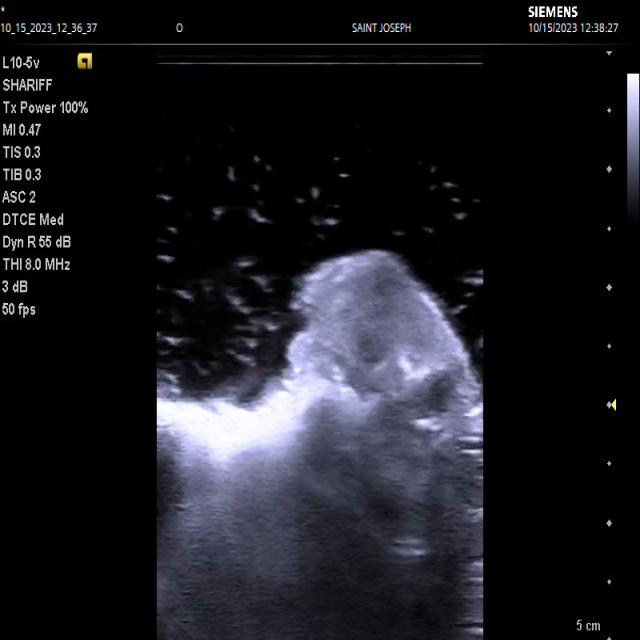tissue: (157, 249, 482, 640)
